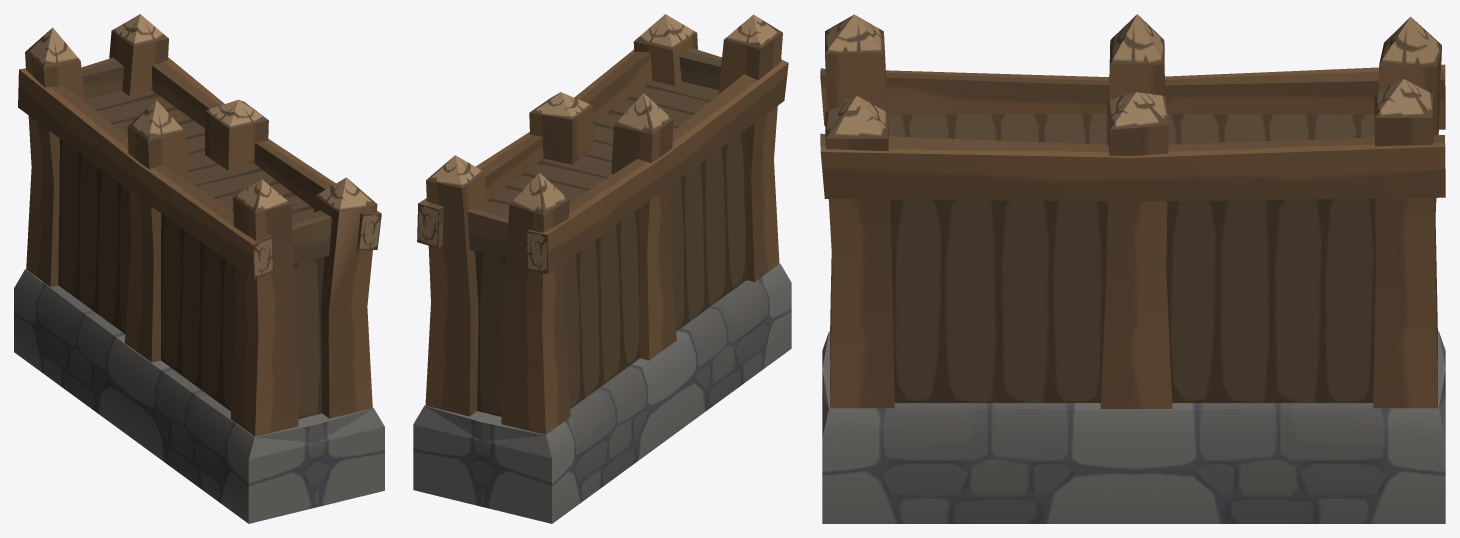
The model's file is Wall_A_wall.FBX.
The picture shows the model from 3 angles, left to right: view 1: azimuth 30°, elevation 25°; view 2: azimuth 150°, elevation 25°; view 3: azimuth 270°, elevation 25°; orthographic projection. The views are drawn at different scales.
Visible parts, largest first — view 1: Wall_A_wall; view 2: Wall_A_wall; view 3: Wall_A_wall.
Part boxes in pixels (x1,y1,x2,y2): Wall_A_wall: (14,14,384,523); Wall_A_wall: (413,14,791,523); Wall_A_wall: (820,14,1445,523).
Bounding box in the file's own units: 201 × 466 × 602.
